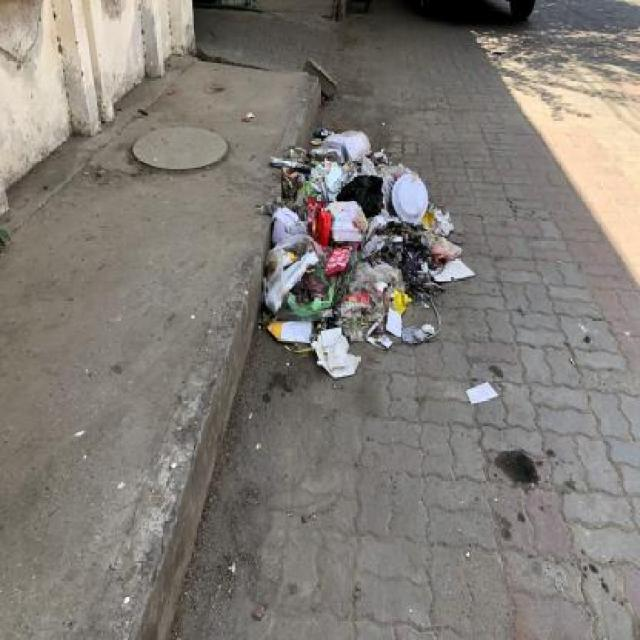garbage: (257, 125, 488, 376), (465, 380, 508, 404), (317, 88, 332, 110), (563, 350, 580, 369), (240, 108, 256, 124), (163, 88, 180, 97)
